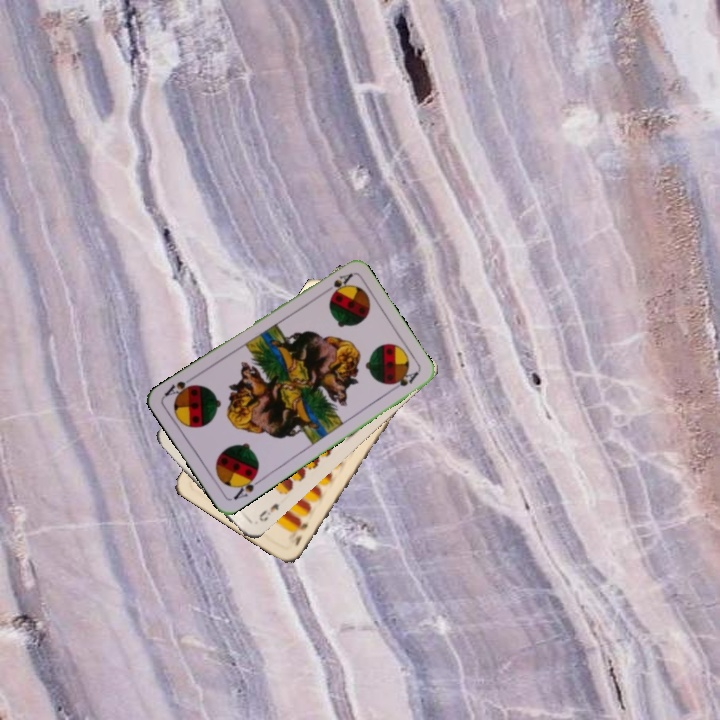E10: (291, 516, 311, 548)
E9: (255, 499, 282, 524)
SA: (229, 469, 264, 503), (318, 269, 355, 297)
